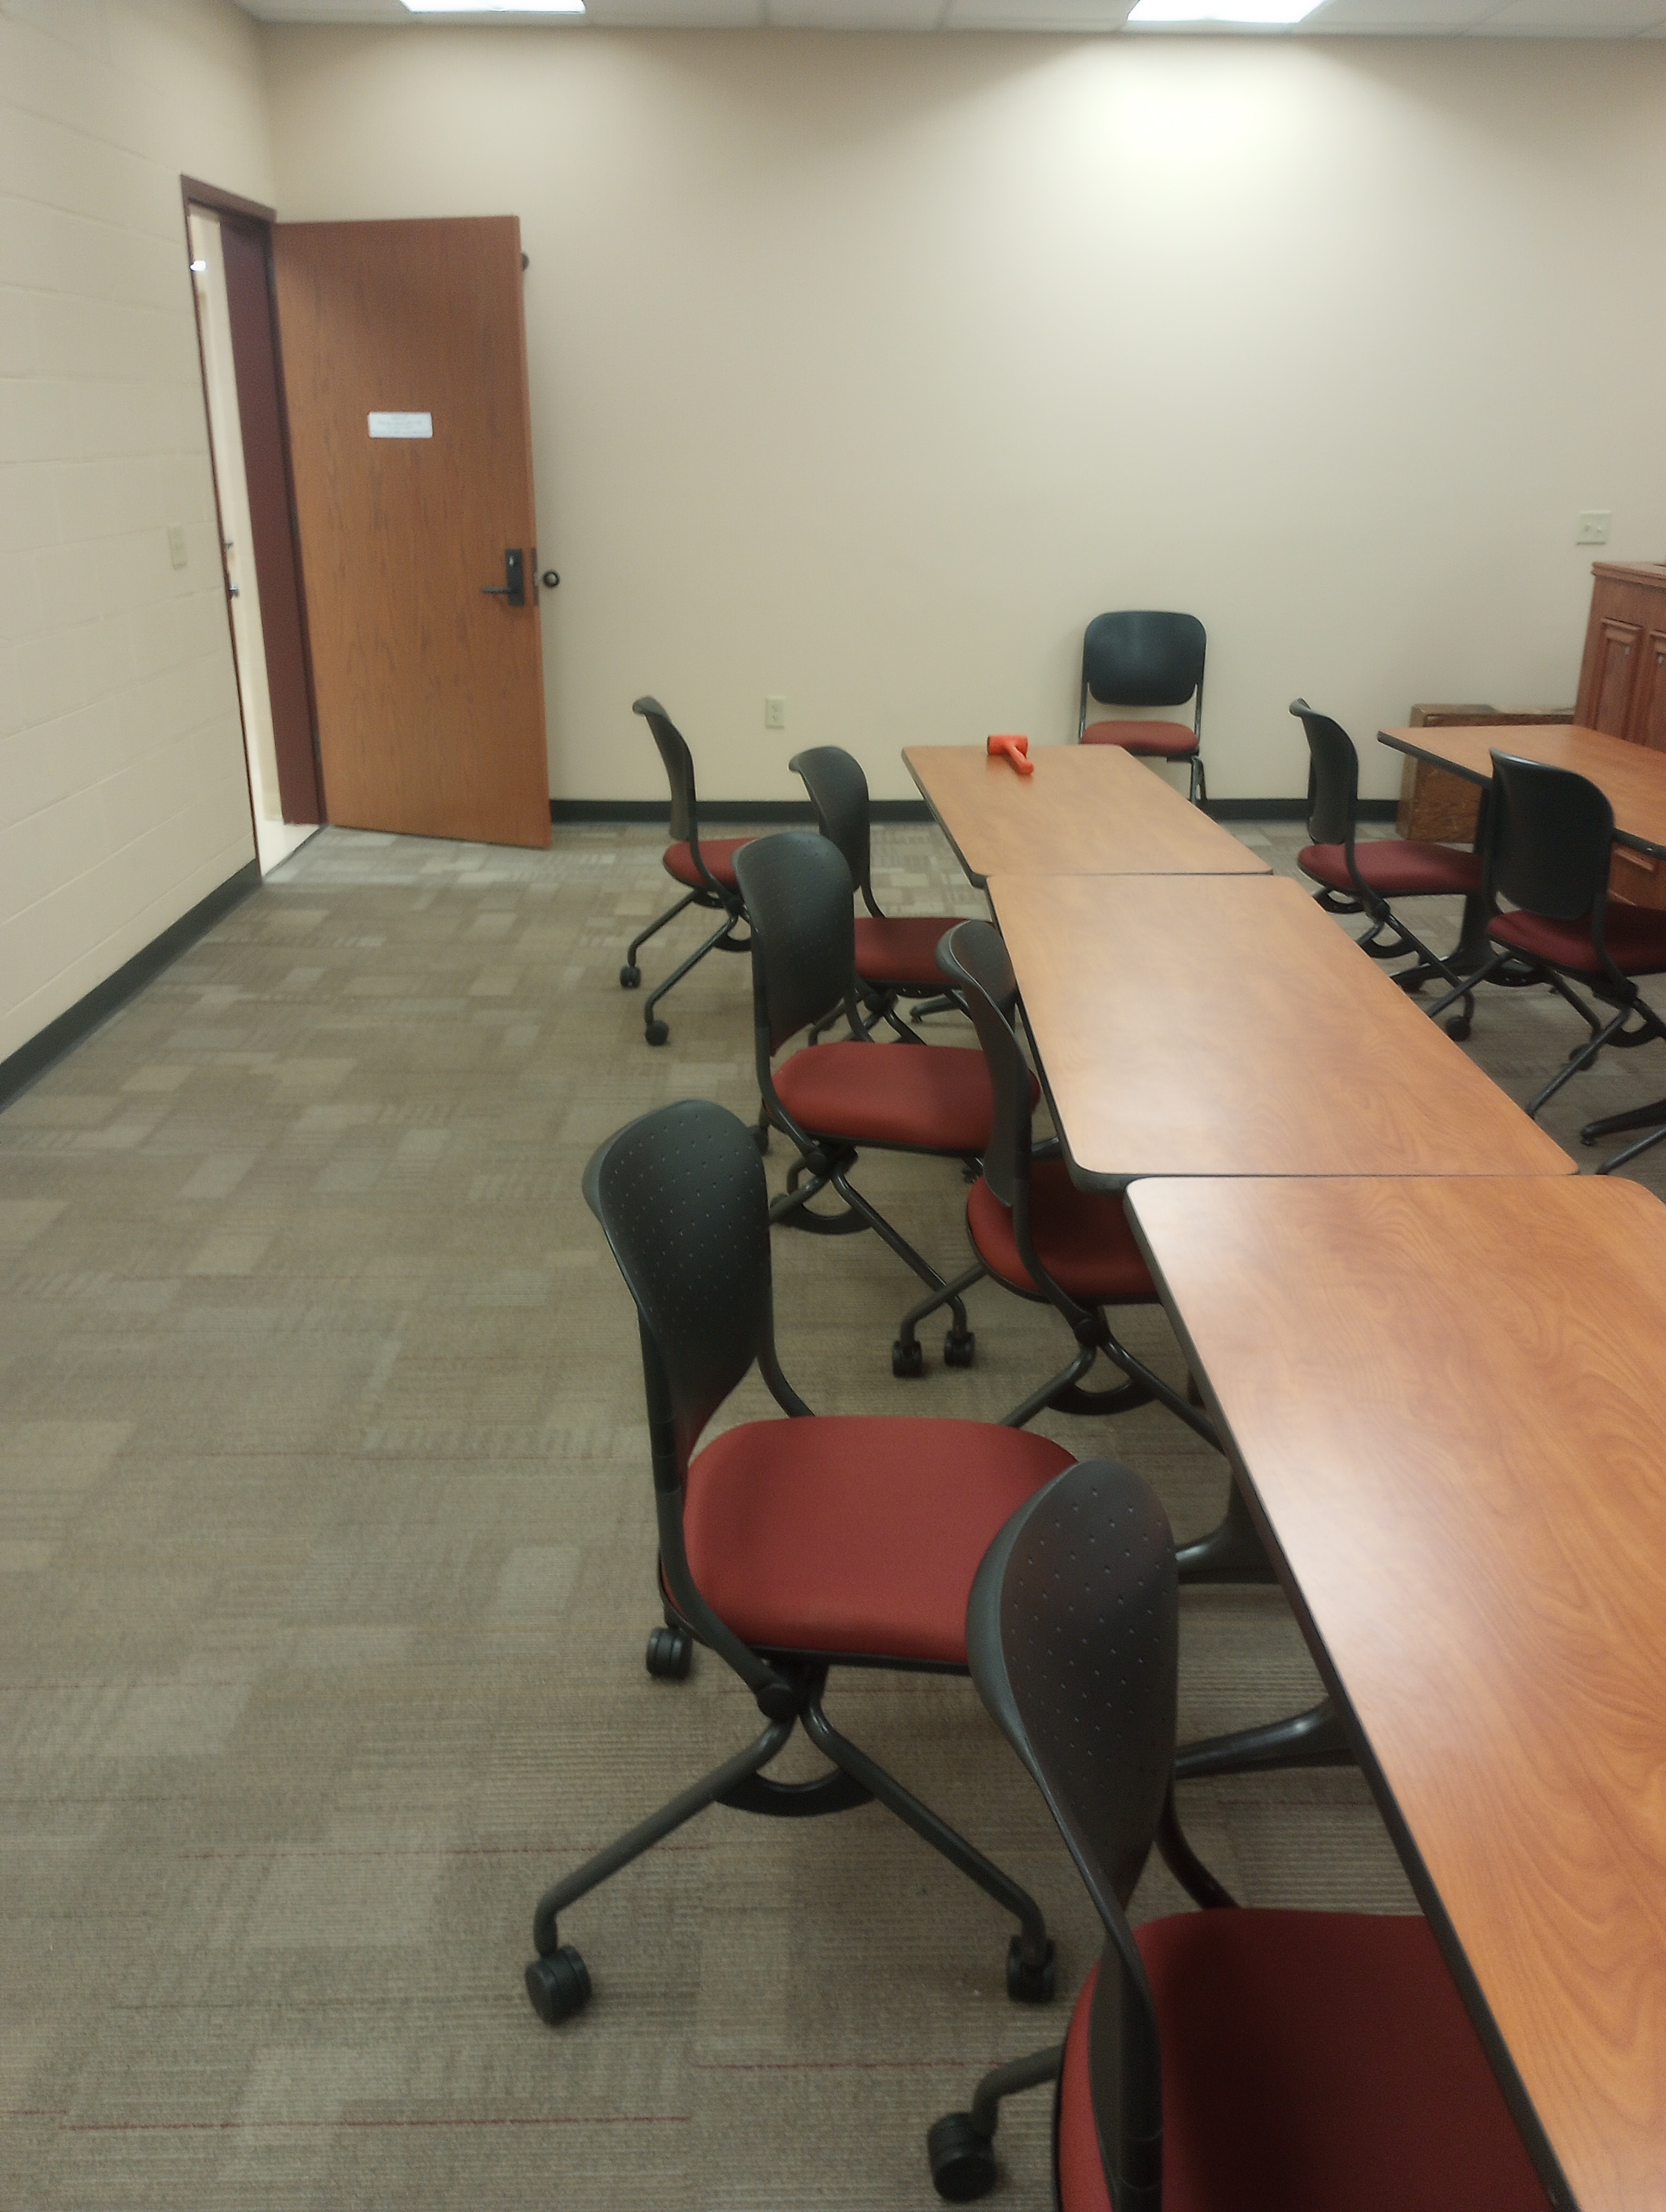bottle: (980, 722, 1038, 790)
